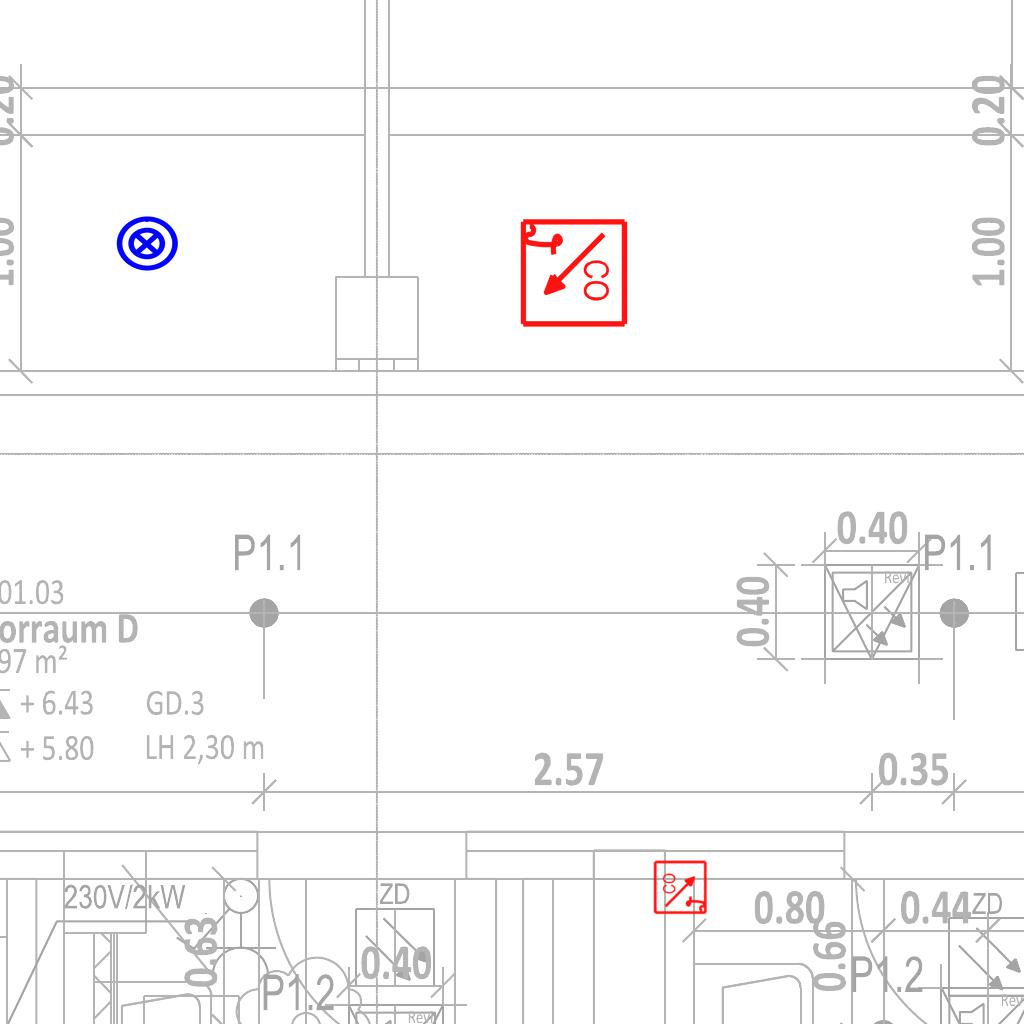ROA_Rauchmelder_optisch_mit_Signalgeber_(Sockelsirene): (516, 217, 629, 330), (653, 859, 709, 915)
Taster_beleuchtet: (114, 211, 180, 277)
